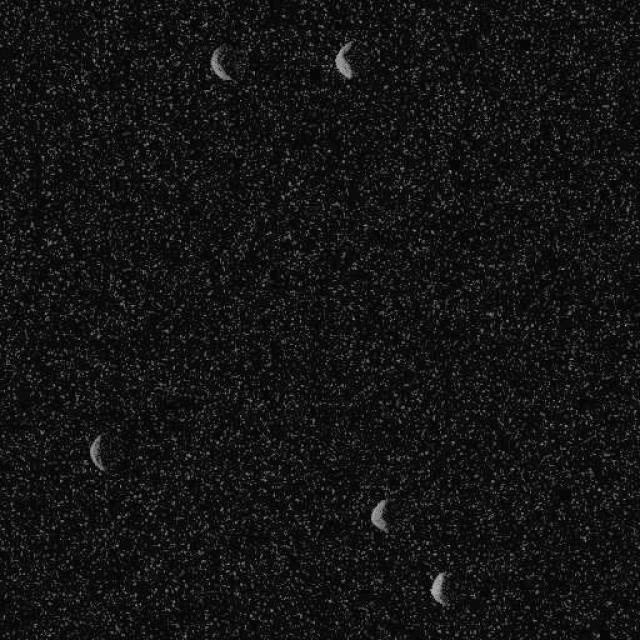D2: (209, 44, 235, 84), (334, 39, 354, 79), (88, 432, 108, 472), (369, 496, 390, 534), (429, 570, 449, 606)
